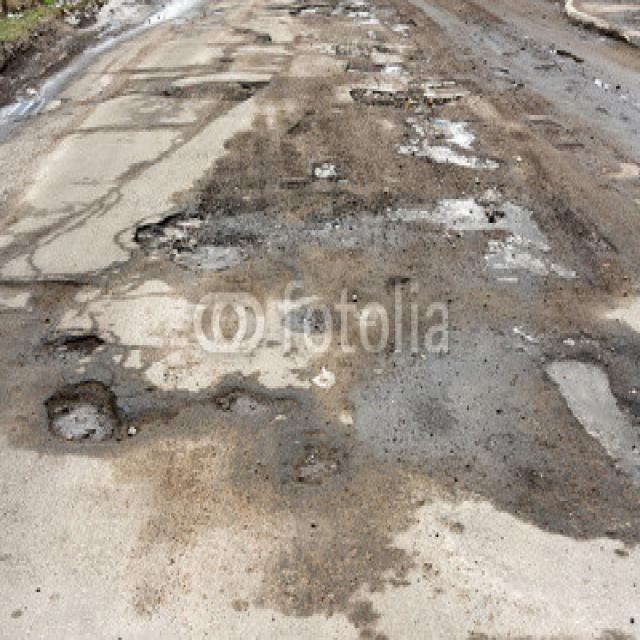Pothole: (361, 184, 577, 294), (523, 322, 640, 510), (28, 372, 134, 474), (133, 199, 260, 284), (340, 54, 478, 112), (160, 63, 282, 127), (398, 113, 509, 175), (293, 4, 417, 41), (38, 315, 112, 371), (311, 144, 347, 201)
